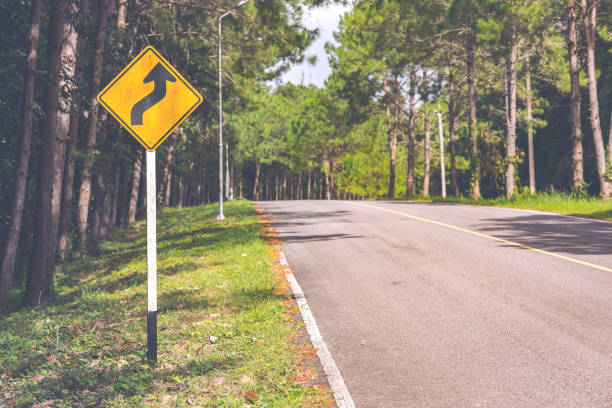right turn: (98, 46, 202, 152)
